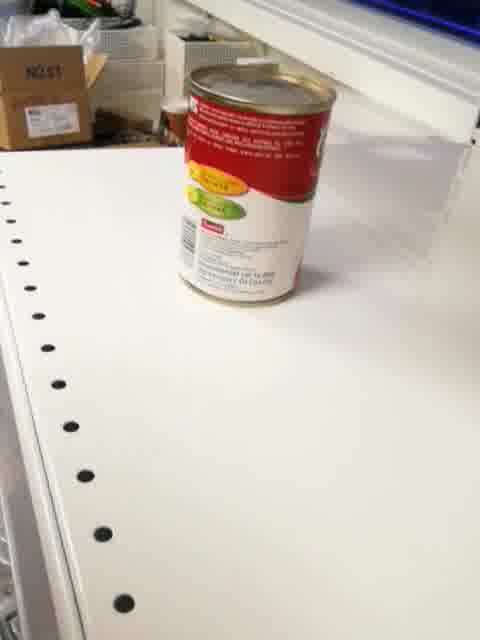tomatosoup: (176, 62, 340, 309)
